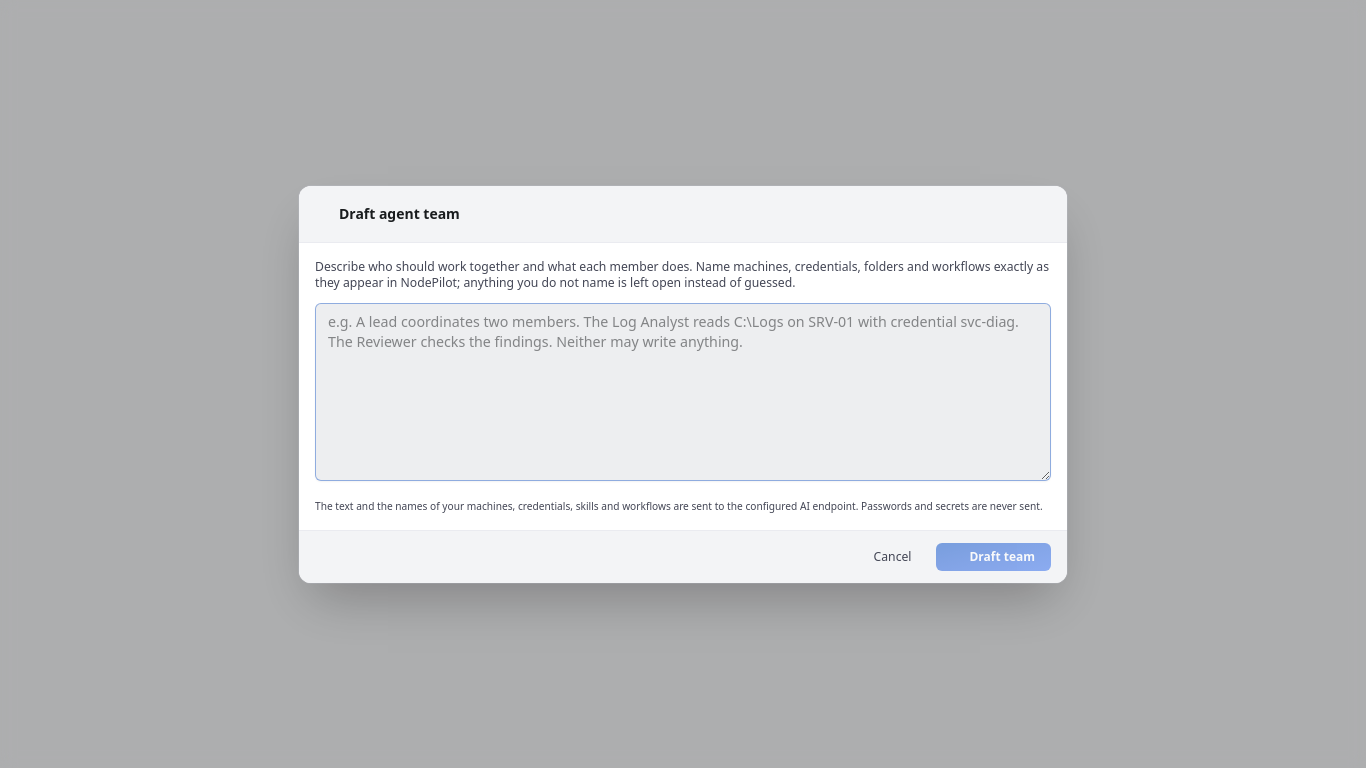
Test case: AgentTeamDraftDialog › lets the user drop an unavailable service identity request
Replace the text in the text box named "Team description" with "Analyst reads C:\\Logs on SRV-01" at (683,392), box x1=315 y1=302 x2=1051 y2=480
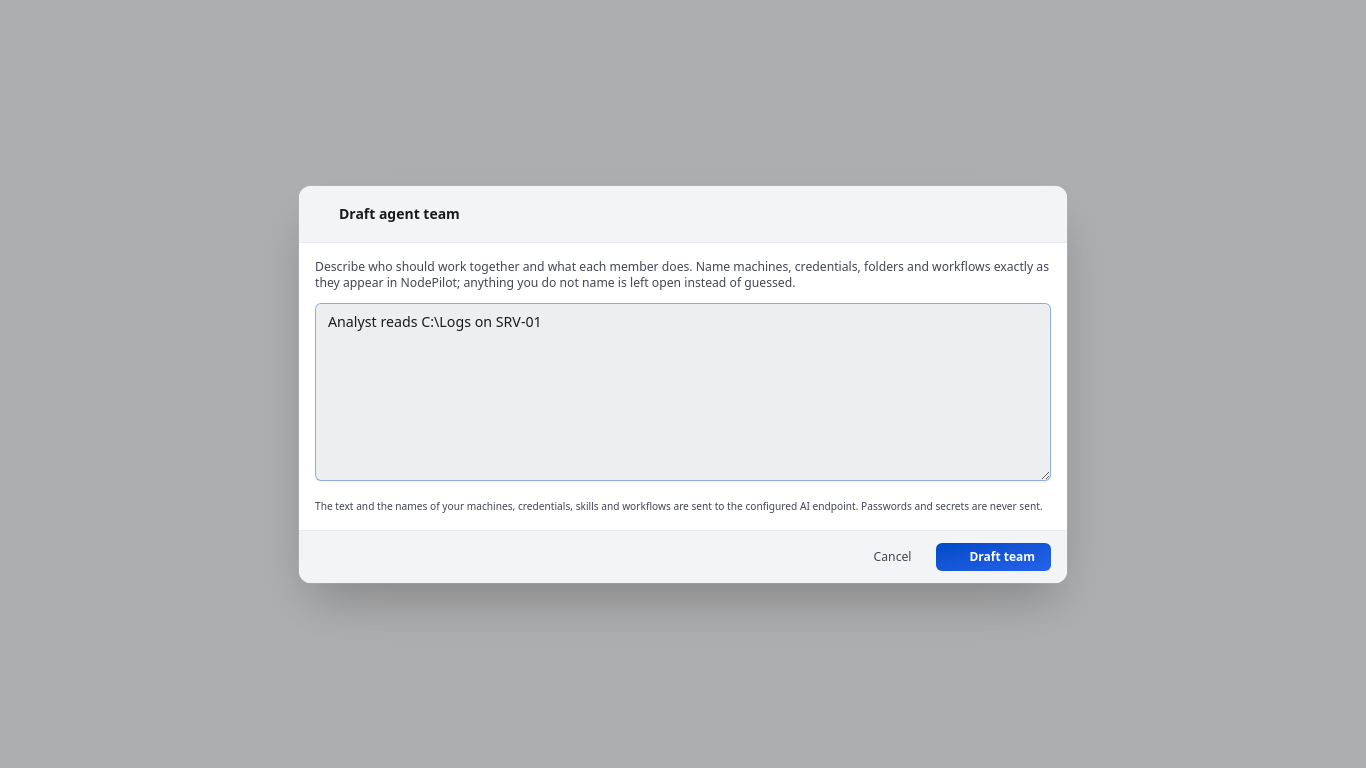
Click the button "Draft team" at (993,556), box x1=936 y1=542 x2=1051 y2=570
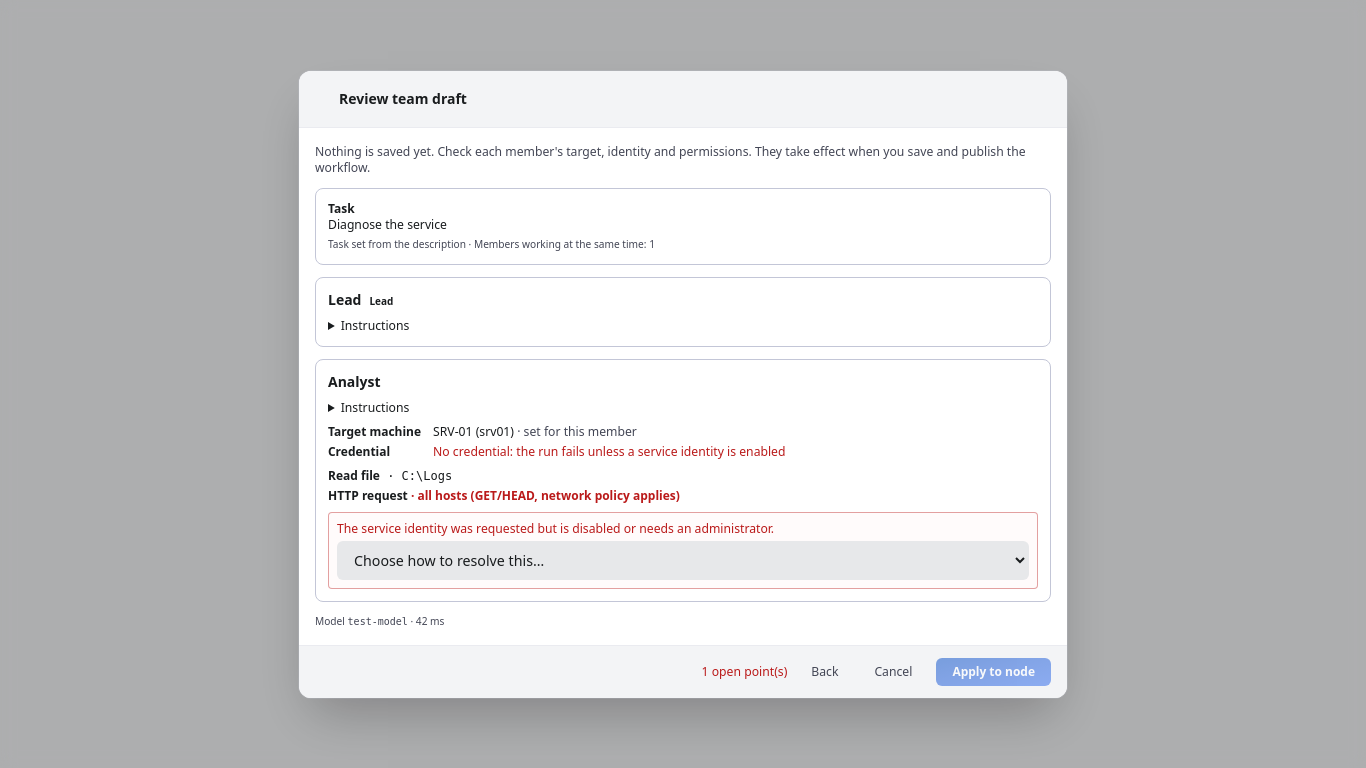
Result: the text "Review team draft" is shown at x1=339 y1=88 x2=467 y2=108
Result: the button "Apply to node" is disabled at x1=936 y1=658 x2=1051 y2=686
Select "Do not use the service identity" in the dropdown labelled "service identity was requested" at (683,560), box x1=337 y1=540 x2=1029 y2=580
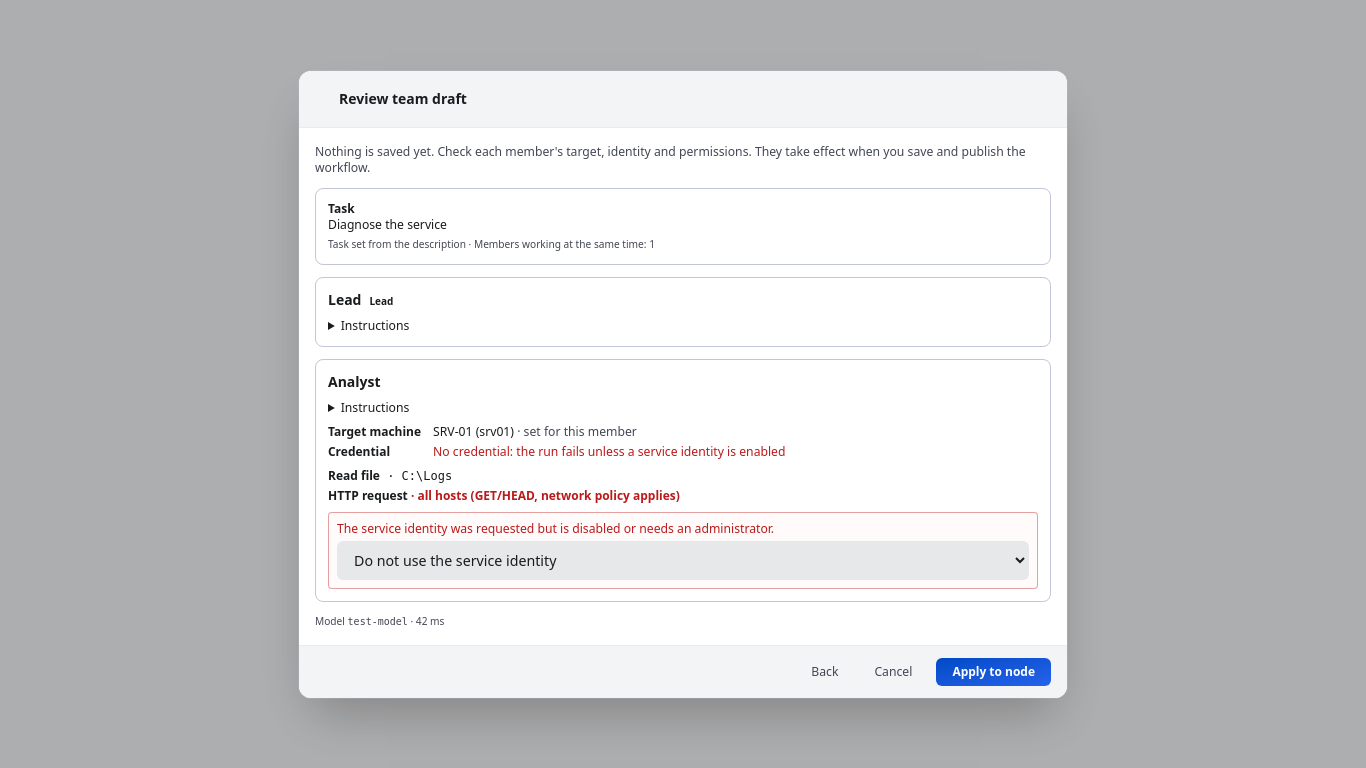
Result: the button "Apply to node" is enabled at x1=936 y1=658 x2=1051 y2=686
